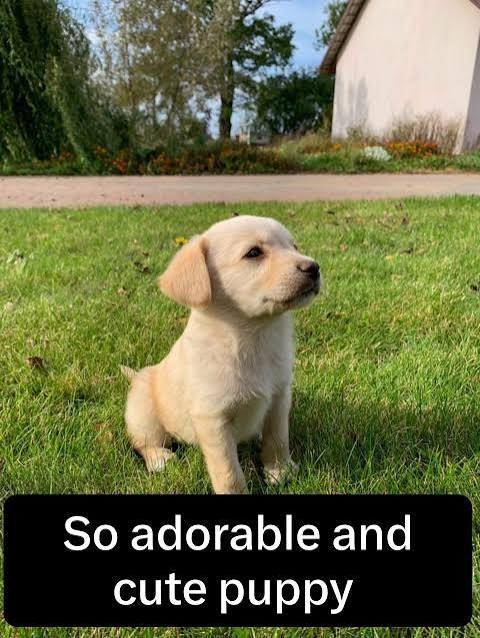puppy-dog: (117, 213, 323, 498)
